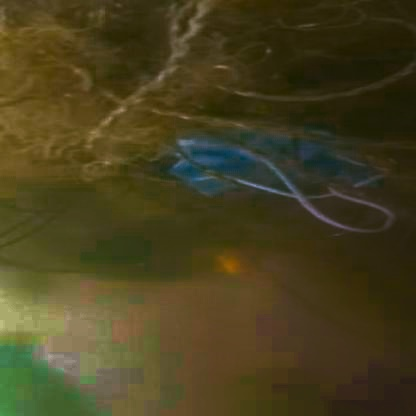Mask: (142, 119, 405, 254)
